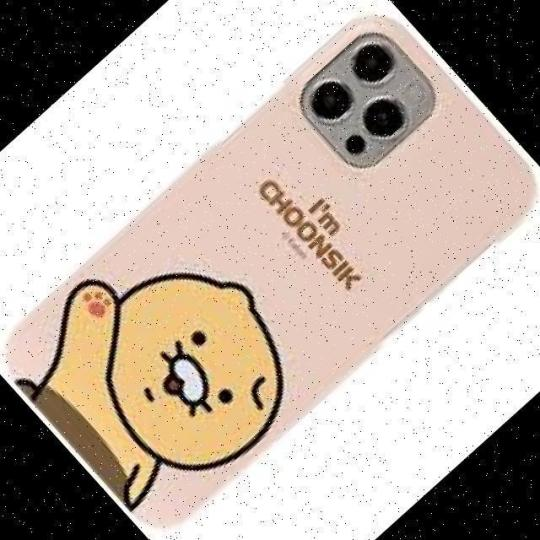phone: (12, 16, 540, 532)
